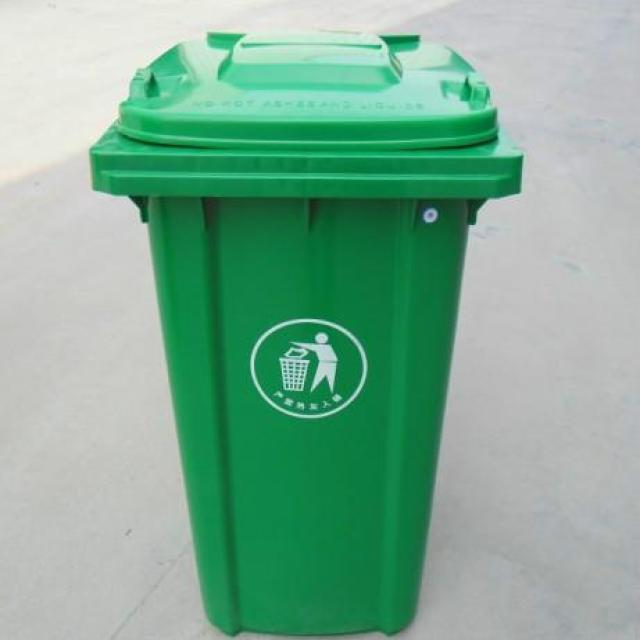garbage_bin: (87, 28, 522, 637)
